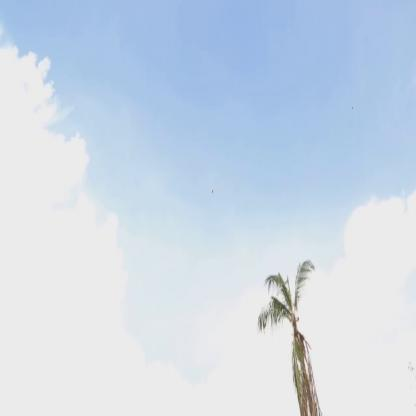drone: (209, 187, 216, 195)
